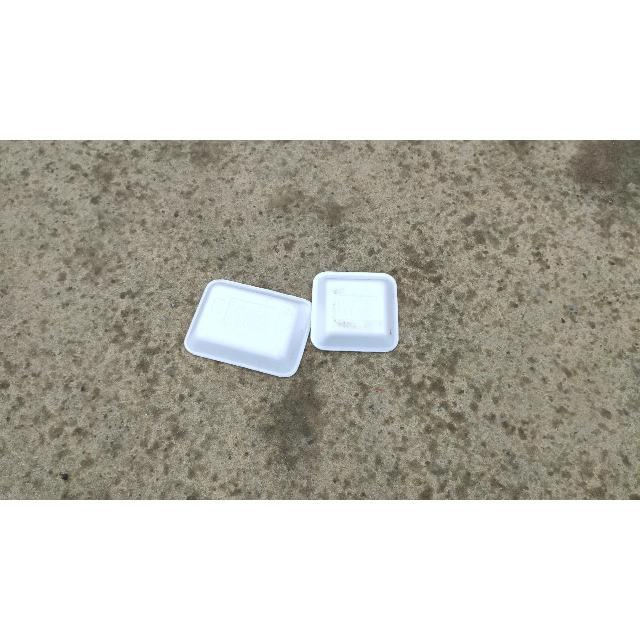Plastico descartable: (184, 280, 311, 381), (312, 272, 400, 354)
